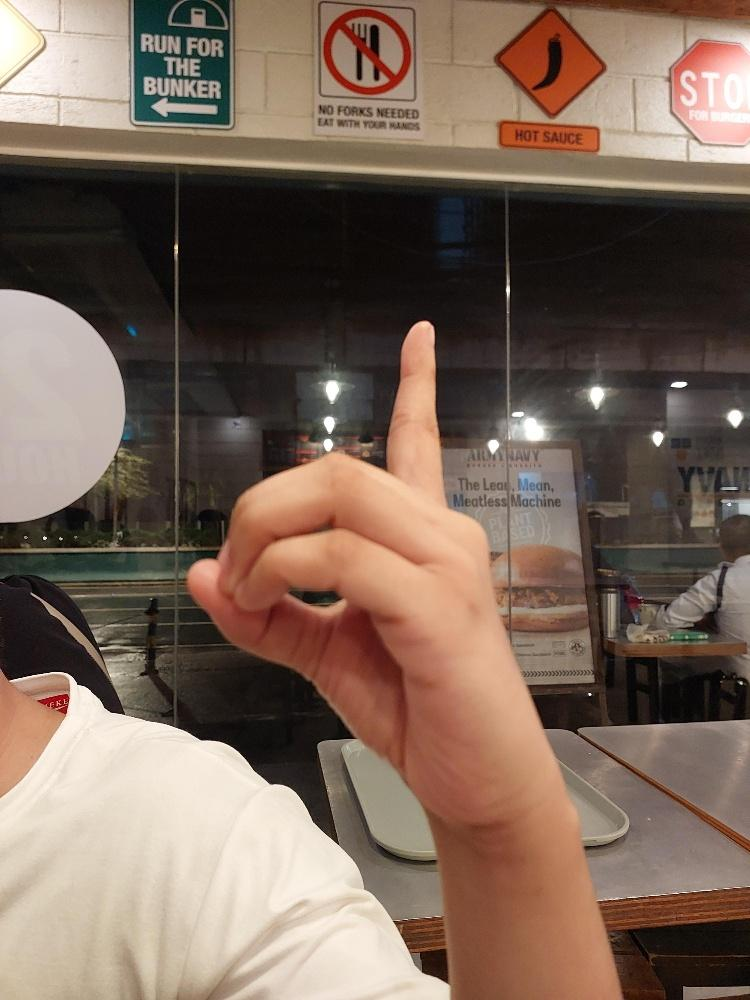d: (185, 318, 546, 829)
